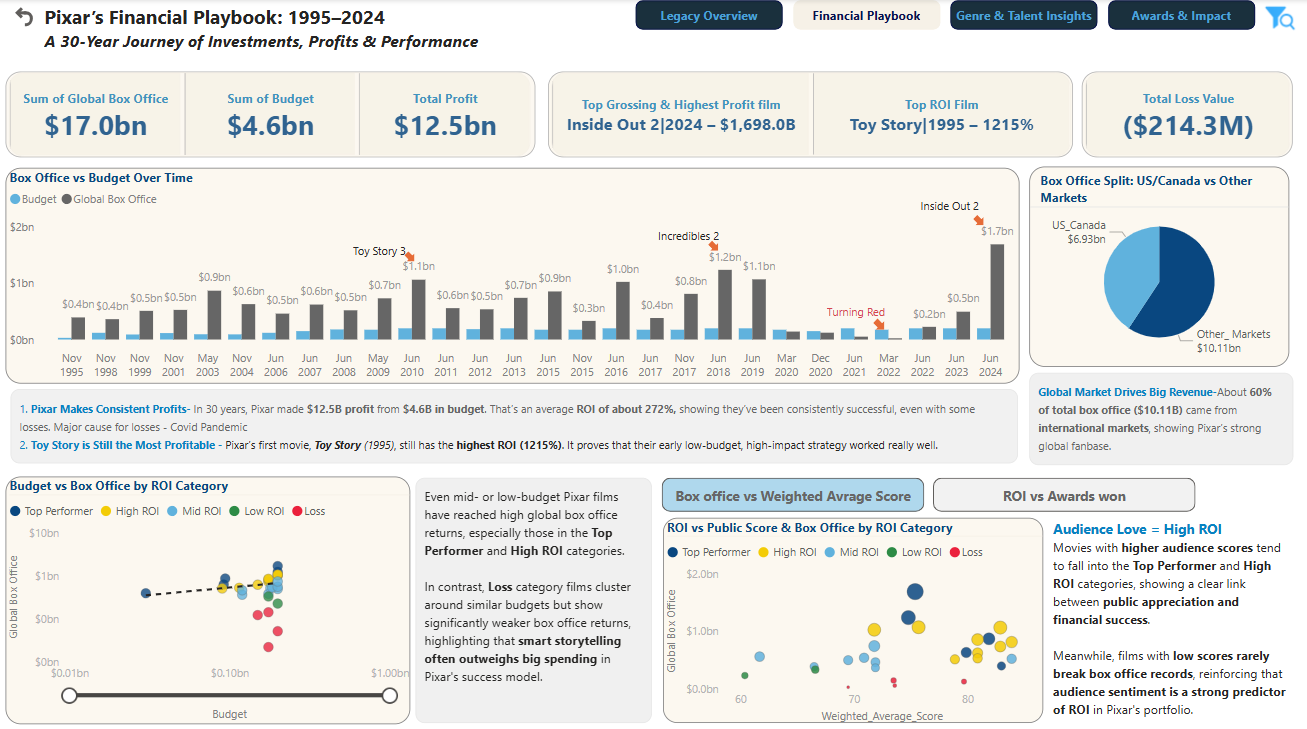

The page's visual inventory and layout, read from the dashboard file:
{"tool":"powerbi","page":{"name":"Financial Playbook ","canvas":[1280,720],"ordinal":1},"visuals":[{"type":"pieChart","title":"Box Office Split: US/Canada vs Other Markets","fields":{"Y":["Sum(pixar_box_office.box_office_other)","Sum(pixar_box_office.box_office_us_canada)"]},"box":[1008.8,163.9,254.3,195.7],"z":0},{"type":"shape","title":"Inside out2","box":[954.1,196.1,10.6,39.4],"z":0,"group":"g3"},{"type":"scatterChart","title":"ROI vs Public Score & Box Office by ROI Category","fields":{"X":["pixar_public_response.Weighted_Average_Score "],"Size":["Sum(pixar_box_office.box_office_worldwide)"],"Series":["pixar_box_office.ROI Category"],"Y":["pixar_box_office.Global Box Office"]},"box":[650.1,507,371.7,201],"z":0,"group":"g1"},{"type":"cardVisual","fields":{"Data":["Sum(pixar_box_office.Global Box Office)","Sum(pixar_box_office.Budget)","Measure Table - Overview.Total Profit"]},"box":[7.3,71,518.5,84.4],"z":1000},{"type":"lineClusteredColumnComboChart","title":"Box Office vs Budget Over Time","fields":{"Category":["calendar_table.MonthYear"],"Y":["Sum(pixar_box_office.Budget)","Sum(pixar_box_office.Global Box Office)"]},"box":[7.3,165.1,991.7,211.6],"z":1000,"group":"g2"},{"type":"shape","title":"Turning red","box":[855.7,297.4,11.2,39.4],"z":1000,"group":"g3"},{"type":"actionButton","title":"B.O vs Score active","box":[649.3,468,256.8,33.3],"z":1000,"group":"g1"},{"type":"cardVisual","fields":{"Data":["pixar_films.Top Grossing Film with Amount","pixar_box_office.Top ROI Film with Value"]},"box":[538,70.9,513.6,84.4],"z":2000},{"type":"shape","title":"Increedibles2 ","box":[695.1,221,10,40],"z":2000,"group":"g3"},{"type":"actionButton","title":"ROI vs Awards inactive","box":[914.7,468,256.8,33.3],"z":2000,"group":"g1"},{"type":"cardVisual","fields":{"Data":["pixar_box_office.Total Loss Value ($)"]},"box":[1060.2,70.9,206.7,84.4],"z":3000},{"type":"shape","title":"toy story 3","box":[397.4,232.2,10,38.8],"z":3000,"group":"g3"},{"type":"textbox","box":[1026.8,503.5,240.9,204.2],"z":3000,"group":"g1"},{"type":"textbox","box":[40.4,0,843.8,63.6],"z":4000},{"type":"textbox","title":"Inside out","box":[897.5,186.6,79.6,29.6],"z":4000,"group":"g3"},{"type":"actionButton","box":[12.2,3.7,27,27],"z":5000},{"type":"textbox","title":"Turning red","box":[806.2,290.9,79.5,29.3],"z":5000,"group":"g3"},{"type":"pageNavigator","box":[623.6,1.2,607.7,29.3],"z":6000},{"type":"textbox","title":"Incredibles","box":[641.4,216.2,79.6,29.6],"z":6000,"group":"g3"},{"type":"textbox","title":"Toy story 3","box":[342.4,230.5,79.6,29.6],"z":7000,"group":"g3"},{"type":"scatterChart","title":"Budget vs Box Office by ROI Category","fields":{"Y":["pixar_box_office.box_office_worldwide"],"X":["pixar_box_office.budget"],"Series":["pixar_box_office.ROI Category"]},"box":[7.3,467.1,396.2,242.1],"z":7000},{"type":"group","id":"g1","title":"Box office compare 1","box":[649.3,468,618.4,240],"z":8000},{"type":"actionButton","title":"Slicer button2","box":[1231.1,0,48.9,42.8],"z":10000},{"type":"group","id":"g2","title":"Box office vs budget bar","box":[7.3,165.1,991.7,211.6],"z":12000},{"type":"group","id":"g3","title":"highlights 1","box":[342.4,186.6,634.7,150.3],"z":13000,"group":"g2"},{"type":"textbox","box":[12.2,382,985.6,73],"z":13000},{"type":"textbox","box":[1008.8,366,258,90],"z":14000},{"type":"textbox","box":[408.4,468.3,231.1,239.7],"z":15000}]}

Visuals, with their boxes in screenshot pixels (x1, y1, x2, y2), scaled from the page's 1280x720 canvas onto the 1307x729 screenshot:
"Box Office Split: US/Canada vs Other Markets" pieChart: select_region(1030, 166, 1290, 364)
"Inside out2" shape: select_region(974, 199, 985, 238)
"ROI vs Public Score & Box Office by ROI Category" scatterChart: select_region(664, 513, 1043, 717)
cardVisual - Sum(pixar_box_office.Global Box Office) x Sum(pixar_box_office.Budget): select_region(7, 72, 537, 157)
"Box Office vs Budget Over Time" lineClusteredColumnComboChart: select_region(7, 167, 1020, 381)
"Turning red" shape: select_region(874, 301, 885, 341)
"B.O vs Score active" actionButton: select_region(663, 474, 925, 508)
cardVisual - pixar_films.Top Grossing Film with Amount x pixar_box_office.Top ROI Film with Value: select_region(549, 72, 1074, 157)
"Increedibles2 " shape: select_region(710, 224, 720, 264)
"ROI vs Awards inactive" actionButton: select_region(934, 474, 1196, 508)
cardVisual - pixar_box_office.Total Loss Value ($): select_region(1083, 72, 1294, 157)
"toy story 3" shape: select_region(406, 235, 416, 274)
textbox: select_region(1048, 510, 1294, 717)
textbox: select_region(41, 0, 903, 64)
"Inside out" textbox: select_region(916, 189, 998, 219)
actionButton: select_region(12, 4, 40, 31)
"Turning red" textbox: select_region(823, 295, 904, 324)
pageNavigator: select_region(637, 1, 1257, 31)
"Incredibles" textbox: select_region(655, 219, 736, 249)
"Toy story 3" textbox: select_region(350, 233, 431, 263)
"Budget vs Box Office by ROI Category" scatterChart: select_region(7, 473, 412, 718)
"Box office compare 1" group: select_region(663, 474, 1294, 717)
"Slicer button2" actionButton: select_region(1257, 0, 1306, 43)
"Box office vs budget bar" group: select_region(7, 167, 1020, 381)
"highlights 1" group: select_region(350, 189, 998, 341)
textbox: select_region(12, 387, 1019, 461)
textbox: select_region(1030, 371, 1294, 462)
textbox: select_region(417, 474, 653, 717)
